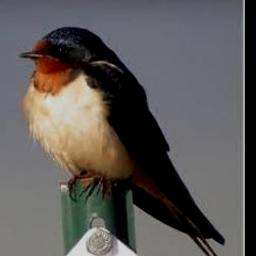Swallow: (18, 26, 226, 256)
